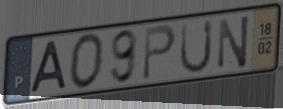9: (107, 27, 140, 86)
A: (28, 39, 69, 96)
N: (217, 13, 251, 71)
O: (68, 31, 107, 91)
P: (141, 22, 179, 83)
U: (178, 17, 215, 76)
